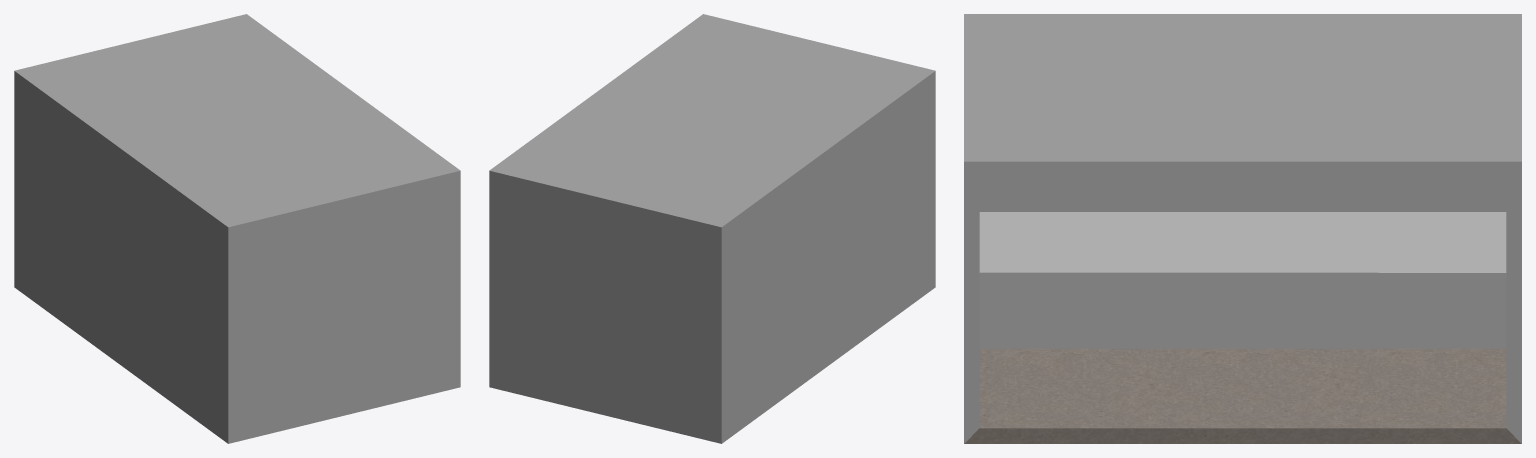
Rendered from Room_RaisedBack.fbx.
3 renders of one model, left to right at view 1: azimuth 30°, elevation 25°; view 2: azimuth 150°, elevation 25°; view 3: azimuth 270°, elevation 25°, orthographic. The views are drawn at different scales.
Visible parts, largest first — view 1: Room_RasiedBack; view 2: Room_RasiedBack; view 3: Room_RasiedBack.
Part boxes in pixels (<box>): Room_RasiedBack: <box>14,14,460,443</box>; Room_RasiedBack: <box>489,14,935,443</box>; Room_RasiedBack: <box>964,14,1521,443</box>.
Bounding box in the file's own units: 4.33 × 3.86 × 6.91.
Materials: 3 (2 with a texture image).
